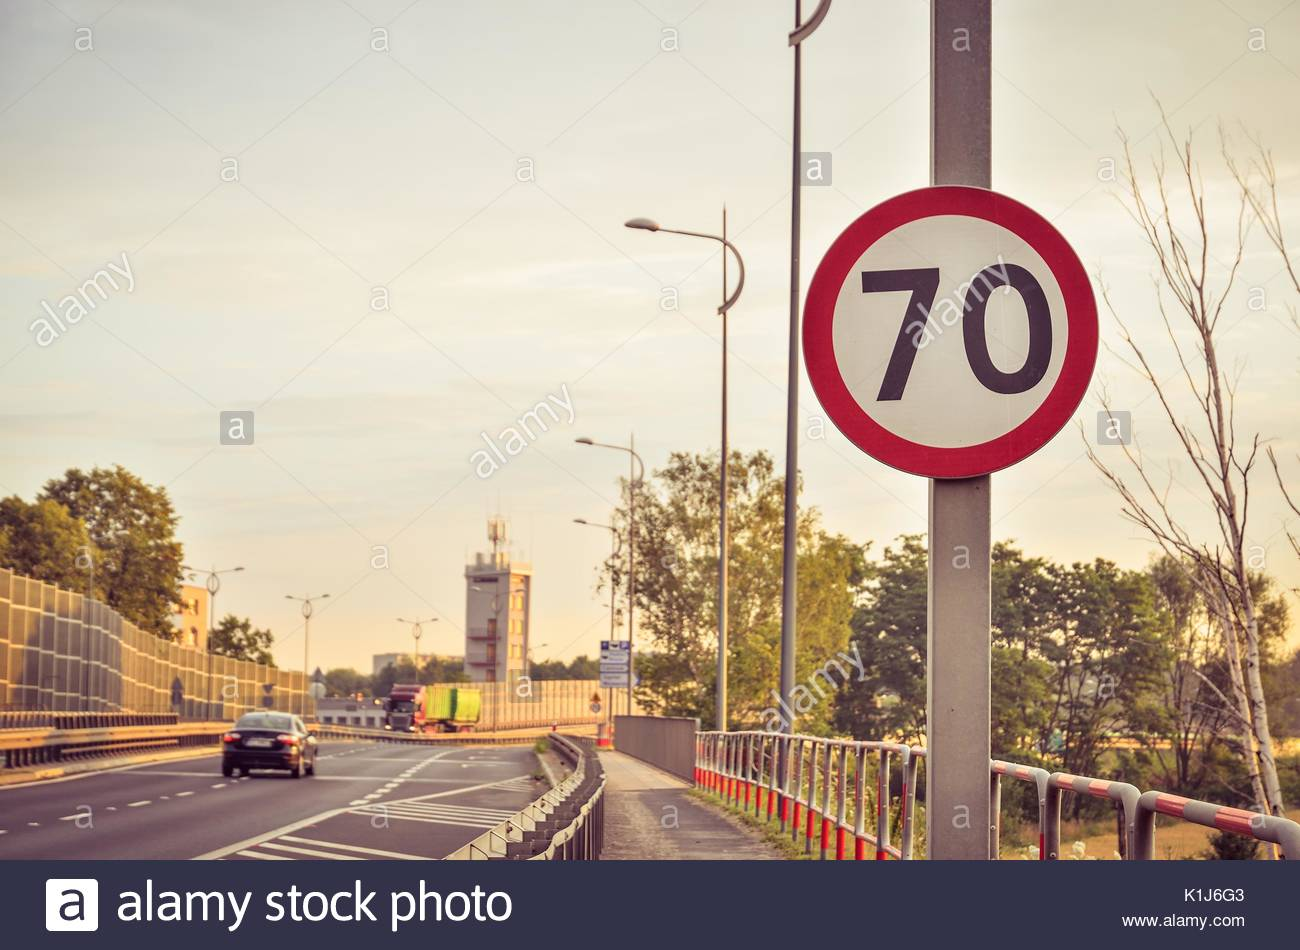Speed_limit_70km: (797, 187, 1104, 485)
